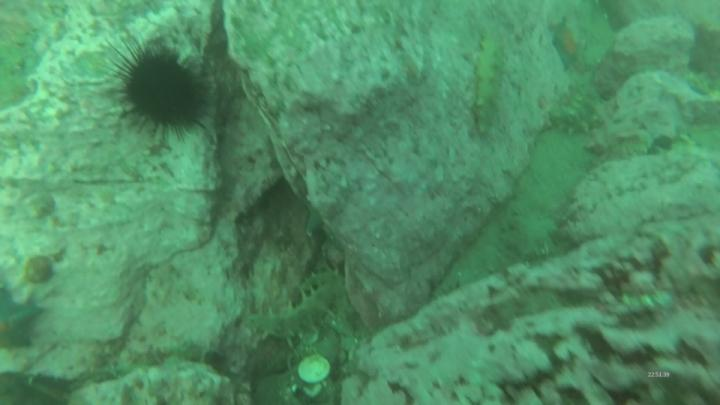echinus: (124, 52, 212, 129)
holothurian: (250, 273, 346, 339), (554, 80, 606, 135), (475, 30, 501, 134)
scallop: (299, 358, 332, 384)
starfish: (551, 20, 580, 66)
